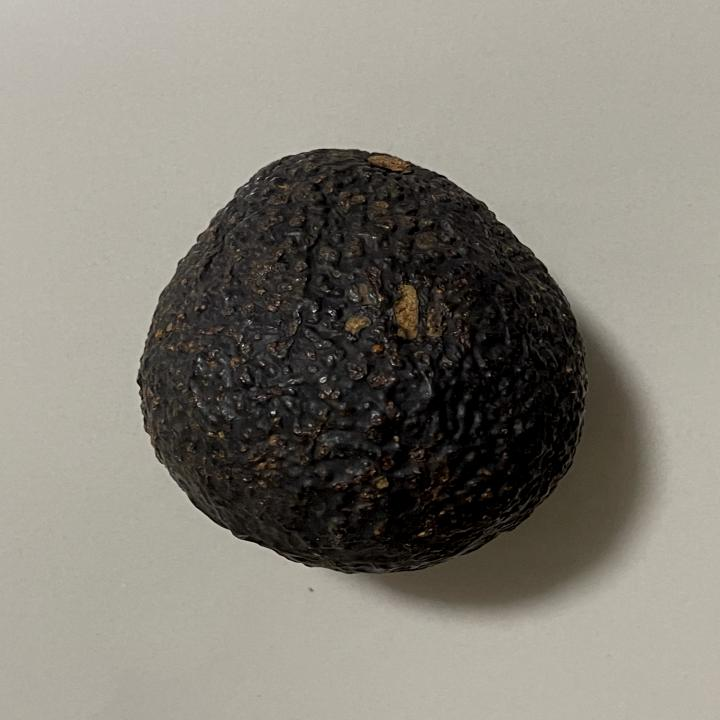Level2: (124, 139, 598, 578)
